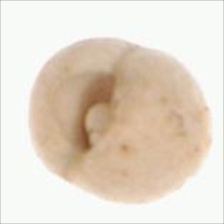L3: (68, 73, 117, 150)
L4: (28, 36, 212, 202)
